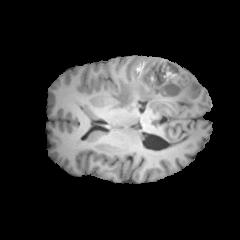glioma: (110, 57, 199, 112)
